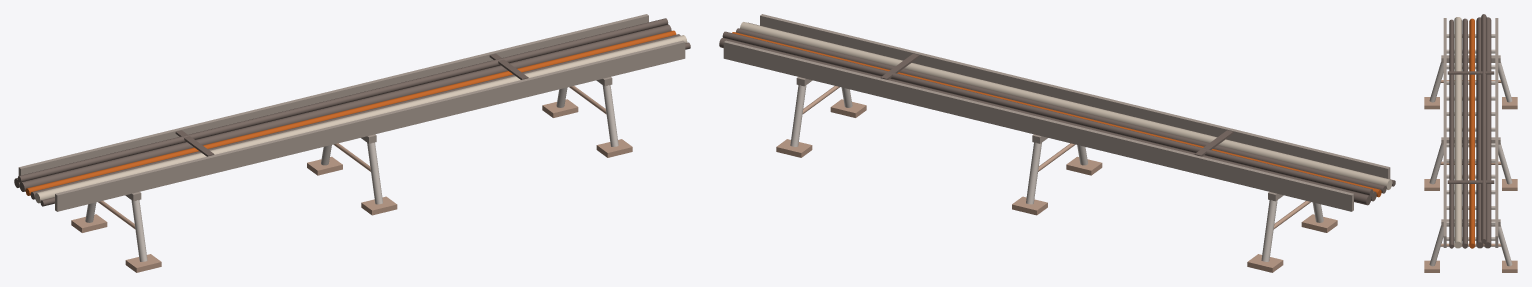
The model's file is D10_cable_tray_4m.glb.
3 views of the same model, side by side, from view 1: azimuth 30°, elevation 25°; view 2: azimuth 150°, elevation 25°; view 3: azimuth 270°, elevation 25° (orthographic). The views are drawn at different scales.
Visible parts, largest first — view 1: cable (×5), tray_side (×2), stand_foot (×6), stand_leg (×3); view 2: tray_side (×2), cable (×6), stand_foot (×6), stand_leg (×3); view 3: cable (×7), tray_side (×2), stand_leg (×6), stand_foot (×6), stand_beam (×3), cable_tie (×2), stand_tie.
Boxes of the visible parts, x1=… form: cable (×5): x1=17, y1=18, x2=687, y2=203; tray_side (×2): x1=18, y1=14, x2=685, y2=211; stand_foot (×6): x1=71, y1=99, x2=632, y2=272; stand_leg (×3): x1=131, y1=85, x2=618, y2=261; tray_side (×2): x1=723, y1=14, x2=1390, y2=211; cable (×6): x1=719, y1=22, x2=1395, y2=205; stand_foot (×6): x1=776, y1=99, x2=1337, y2=272; stand_leg (×3): x1=790, y1=85, x2=1277, y2=261; cable (×7): x1=1449, y1=14, x2=1491, y2=248; tray_side (×2): x1=1443, y1=18, x2=1498, y2=247; stand_leg (×6): x1=1429, y1=62, x2=1512, y2=266; stand_foot (×6): x1=1424, y1=97, x2=1517, y2=272; stand_beam (×3): x1=1441, y1=55, x2=1500, y2=226; cable_tie (×2): x1=1447, y1=71, x2=1494, y2=183; stand_tie: x1=1440, y1=243, x2=1501, y2=246.
Bounding box in the file's own units: 4.12 × 0.515 × 0.72.
